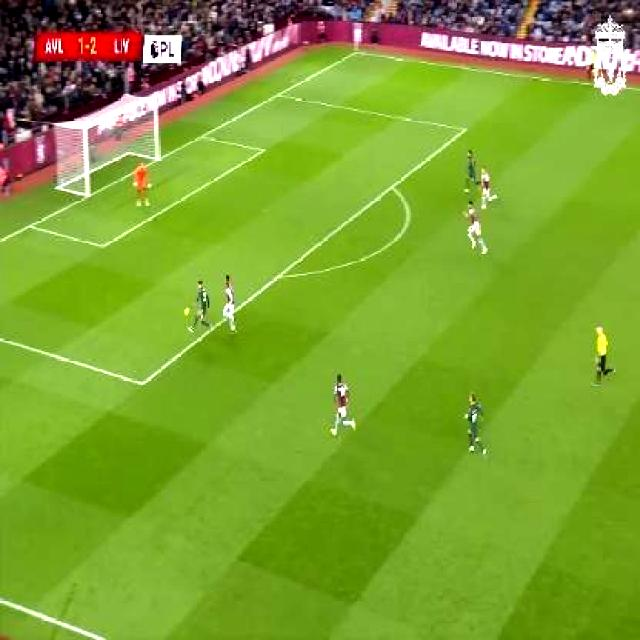bigarea_bottom_inner: (132, 370, 151, 396)
bigarea_top_inner: (457, 118, 471, 137)
bigarea_top_outter: (270, 86, 284, 102)
bottom_arc_area_intersection: (269, 263, 288, 286)
corner: (349, 44, 366, 59)
smallarea_bottom_inner: (92, 232, 111, 257)
smallarea_bottom_outter: (20, 214, 37, 234)
smallarea_top_inner: (254, 140, 269, 158)
smallarea_top_outter: (194, 128, 208, 144)
top_arc_area_intersection: (384, 177, 398, 194)
